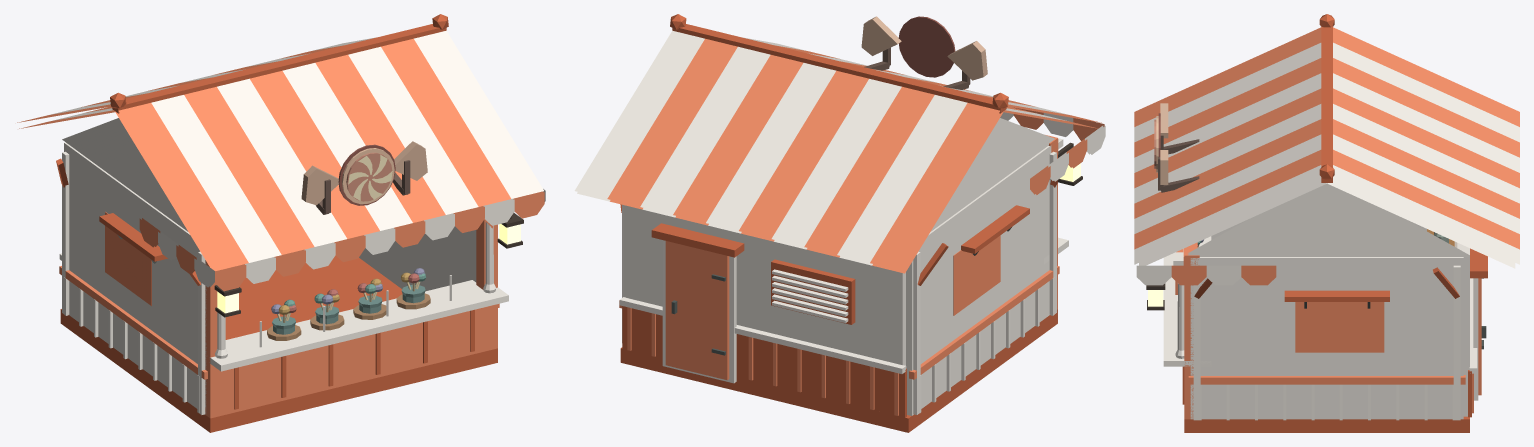
Rendered from kiosk-candy.glb.
3 renders of one model, left to right at view 1: azimuth 30°, elevation 25°; view 2: azimuth 150°, elevation 25°; view 3: azimuth 270°, elevation 25°, orthographic. The views are drawn at different scales.
Parts seen in each view (by area): view 1: kiosk-candy, Midway_counter_service_walls_and_joinery; view 2: kiosk-candy, Midway_counter_service_walls_and_joinery; view 3: kiosk-candy, Midway_counter_service_walls_and_joinery.
Boxes of the visible parts, x1,y1,x2,y2 form: kiosk-candy: [17, 14, 545, 432]; Midway_counter_service_walls_and_joinery: [56, 141, 499, 414]; kiosk-candy: [574, 14, 1105, 432]; Midway_counter_service_walls_and_joinery: [619, 16, 1063, 417]; kiosk-candy: [1134, 14, 1519, 432]; Midway_counter_service_walls_and_joinery: [1154, 103, 1487, 420].
Bounding box in the file's own units: 5.85 × 4.81 × 6.08.
